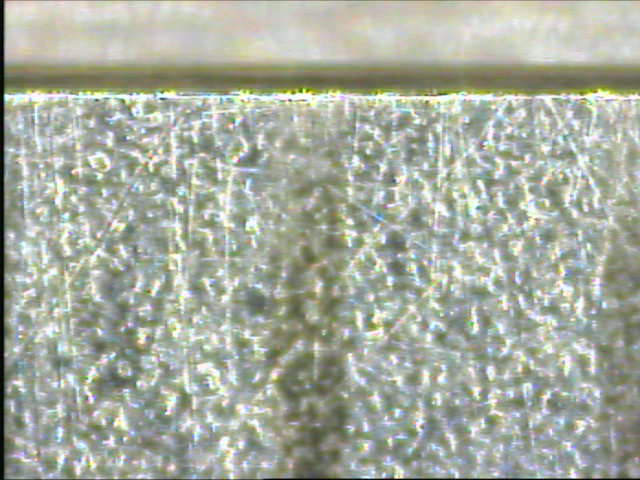line: (265, 103, 350, 474)
